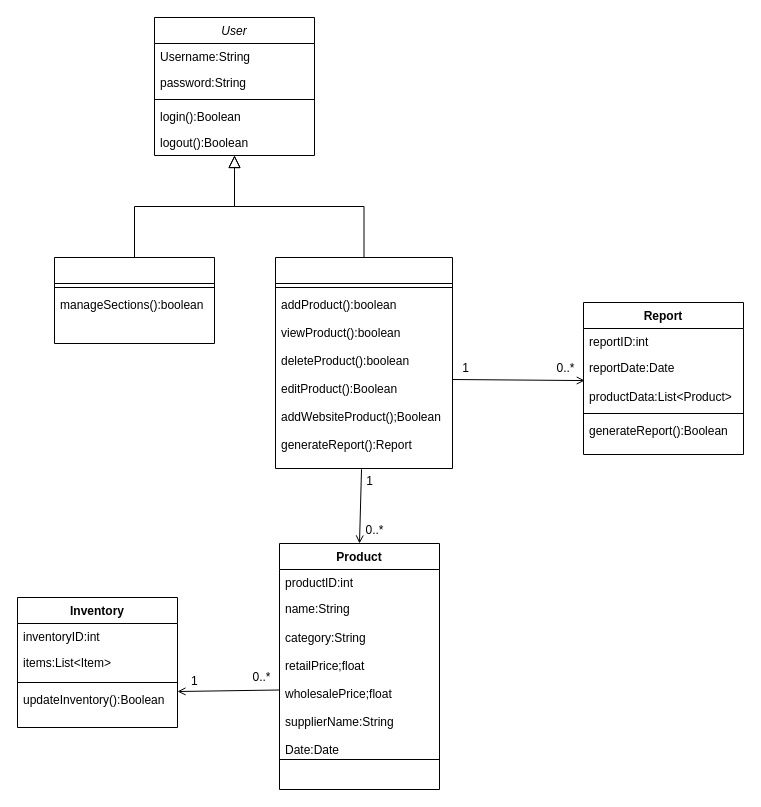
Image size: 761x807. Some labels were removed from this diagram. The box of each missing label's shape, as (x1, y1, x2, y2) in pixels:
Admin: (54, 256, 214, 344)
Logistics Manager: (274, 256, 452, 468)
